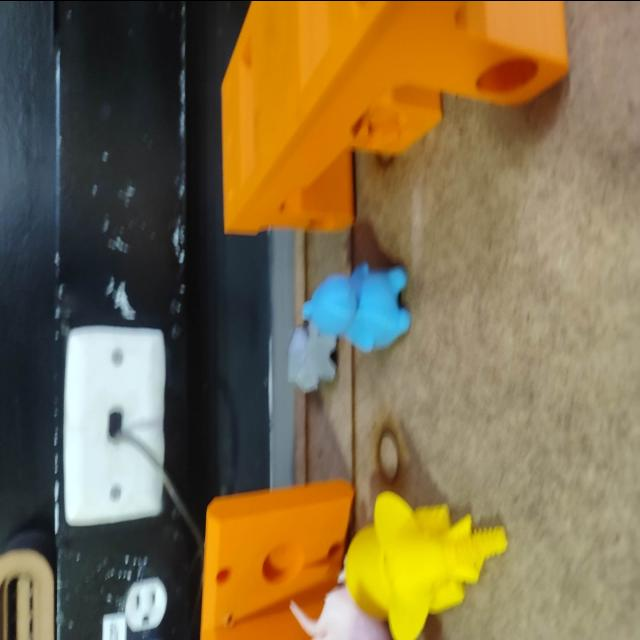DINO: (303, 244, 413, 377)
